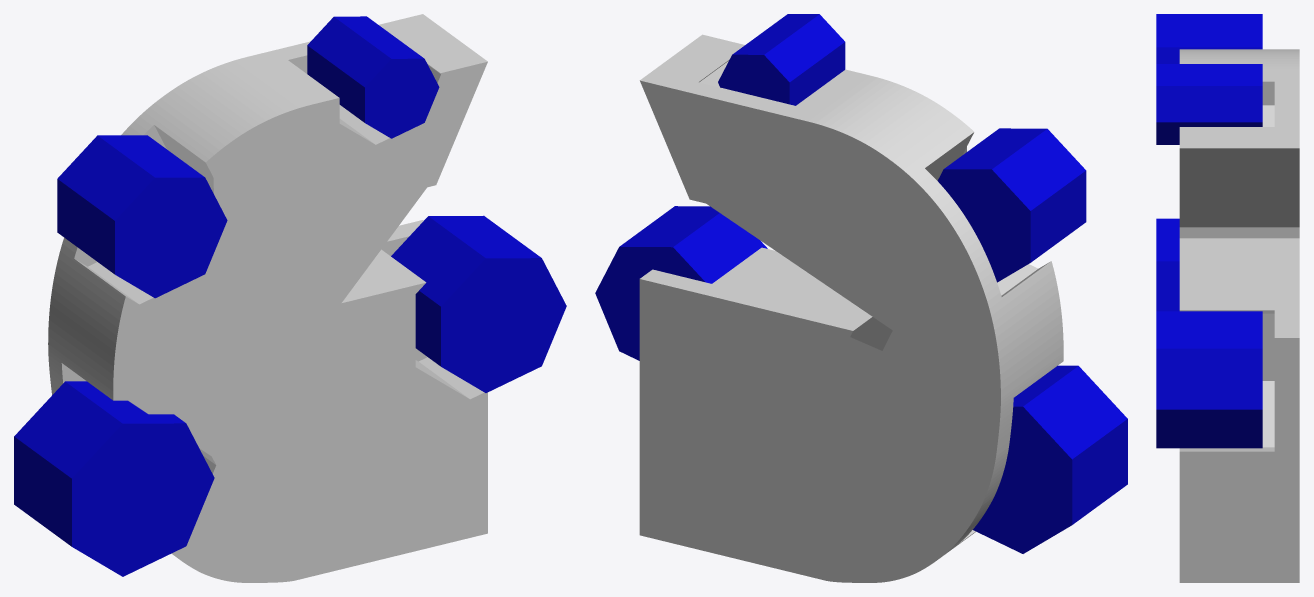
Rendered from Ch_Lite_G_01.fbx.
The picture shows the model from 3 angles, left to right: view 1: azimuth 30°, elevation 25°; view 2: azimuth 150°, elevation 25°; view 3: azimuth 270°, elevation 25°; orthographic projection. The views are drawn at different scales.
Visible parts, largest first — view 1: sphere1; view 2: sphere1; view 3: sphere1.
Part boxes in pixels (box(x1,y1,x2,y2)): sphere1: box(14, 14, 566, 582); sphere1: box(595, 14, 1127, 582); sphere1: box(1156, 14, 1299, 582).
Size of the model in its own units: 0.878 by 0.8654 by 0.2387.
